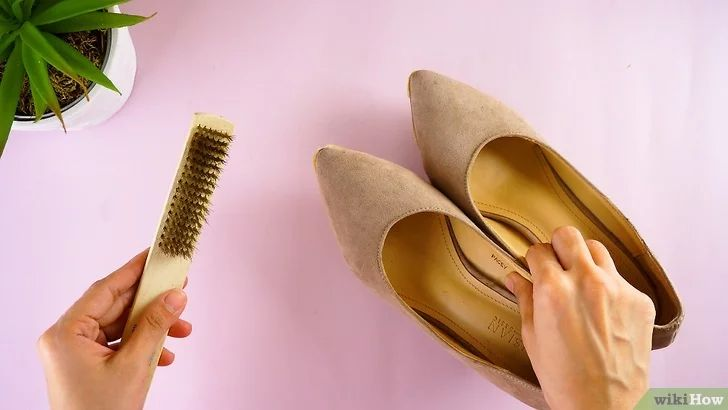gamuza: (315, 71, 543, 301)
